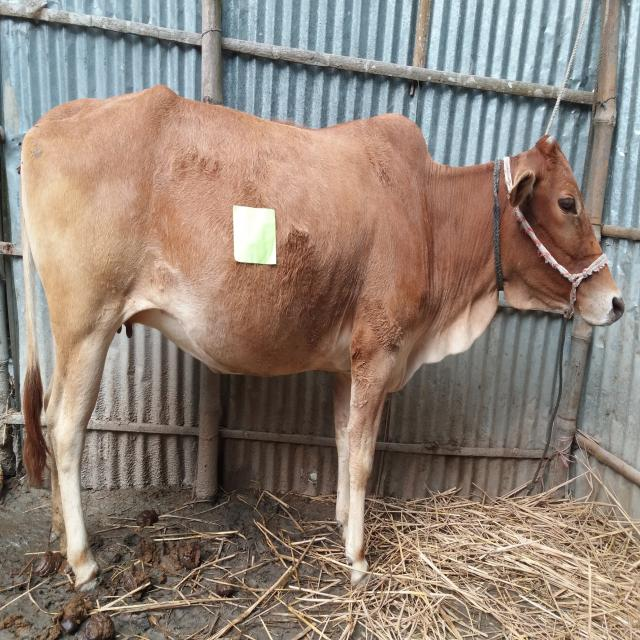badan_sapi: (31, 108, 406, 380)
sapi: (20, 83, 627, 610)
